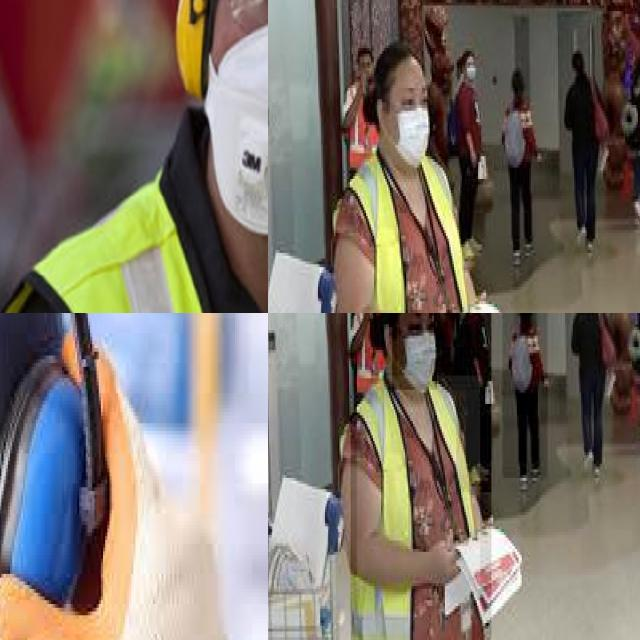Ear-protection: (0, 313, 111, 594), (178, 0, 268, 252)
face_mask: (385, 76, 432, 168), (392, 313, 438, 392), (465, 54, 475, 76)
head_nohelmet: (382, 42, 427, 80), (507, 68, 528, 105), (358, 40, 374, 74), (513, 313, 534, 330), (574, 51, 585, 82), (634, 51, 640, 76)
person: (0, 0, 268, 313), (350, 313, 493, 640), (334, 48, 499, 313), (559, 49, 608, 263), (501, 65, 540, 273), (502, 313, 549, 481), (572, 313, 611, 492), (456, 313, 491, 492), (337, 313, 387, 398), (624, 51, 640, 238), (626, 313, 640, 461)
shoes: (464, 230, 486, 259), (571, 217, 587, 246), (520, 236, 538, 258), (578, 447, 592, 472), (516, 471, 531, 494), (584, 232, 596, 260), (529, 461, 543, 484), (592, 461, 602, 489), (511, 246, 522, 271), (633, 198, 640, 227)
vest: (357, 375, 482, 640), (342, 160, 470, 313)
